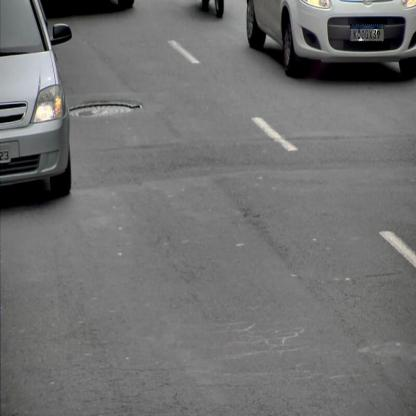PlacaM: (350, 24, 384, 42)
